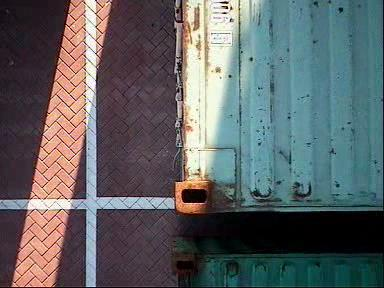groundmarker_2: (190, 1, 272, 115)
